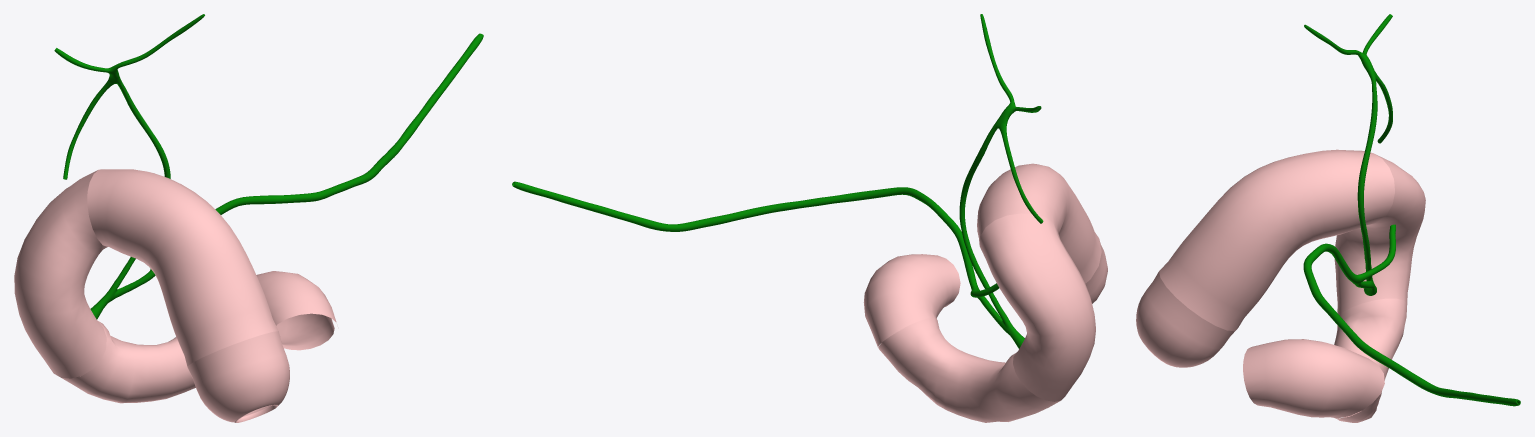
The model's file is 3d-vh-f-pancreas-landmark.glb.
3 renders of one model, left to right at view 1: azimuth 30°, elevation 25°; view 2: azimuth 150°, elevation 25°; view 3: azimuth 270°, elevation 25°, orthographic. The views are drawn at different scales.
Visible parts, largest first — view 1: VH_F_pancreas_landmark_duodenum, VH_F_pancreas_landmark_biliary_tree; view 2: VH_F_pancreas_landmark_duodenum, VH_F_pancreas_landmark_biliary_tree; view 3: VH_F_pancreas_landmark_duodenum, VH_F_pancreas_landmark_biliary_tree.
Boxes of the visible parts, x1,y1,x2,y2 form: VH_F_pancreas_landmark_duodenum: [14, 169, 336, 422]; VH_F_pancreas_landmark_biliary_tree: [54, 14, 483, 319]; VH_F_pancreas_landmark_duodenum: [863, 163, 1107, 422]; VH_F_pancreas_landmark_biliary_tree: [512, 14, 1043, 348]; VH_F_pancreas_landmark_duodenum: [1136, 149, 1425, 422]; VH_F_pancreas_landmark_biliary_tree: [1303, 14, 1520, 406].
Size of the model in its own units: 0.1783 by 0.1273 by 0.1124.
